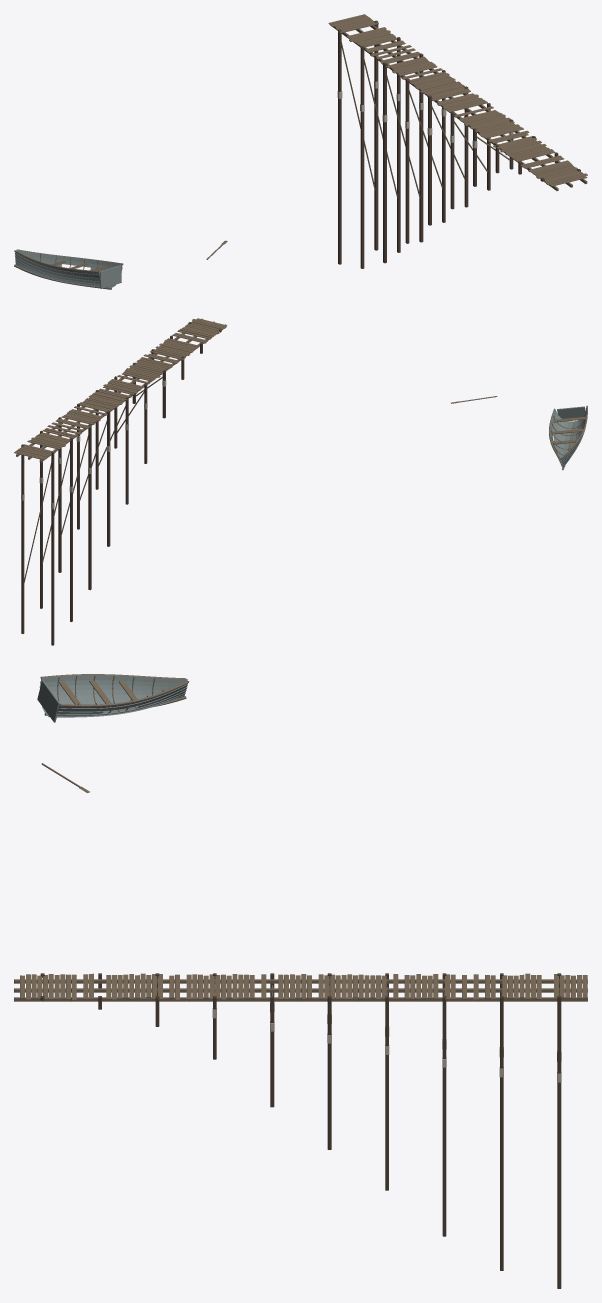
File: lake.glb
The picture shows the model from 3 angles, top to bottom: view 1: azimuth 30°, elevation 25°; view 2: azimuth 150°, elevation 25°; view 3: azimuth 270°, elevation 25°; orthographic projection. The views are drawn at different scales.
Visible parts, largest first — view 1: lake; view 2: lake; view 3: lake.
Boxes of the visible parts, box(x1,y1,x2,y2) form: lake: box(14, 14, 587, 289); lake: box(14, 318, 587, 645); lake: box(14, 674, 587, 1288).
Size of the model in its own units: 39.33 by 18.39 by 30.
